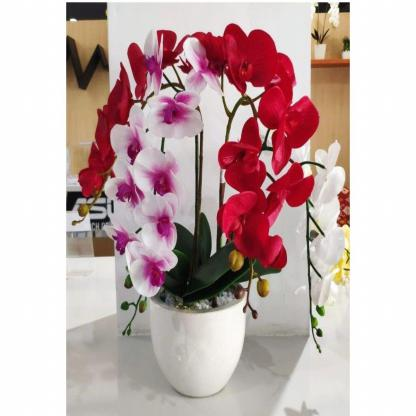ANGGREK: (87, 33, 341, 358)
